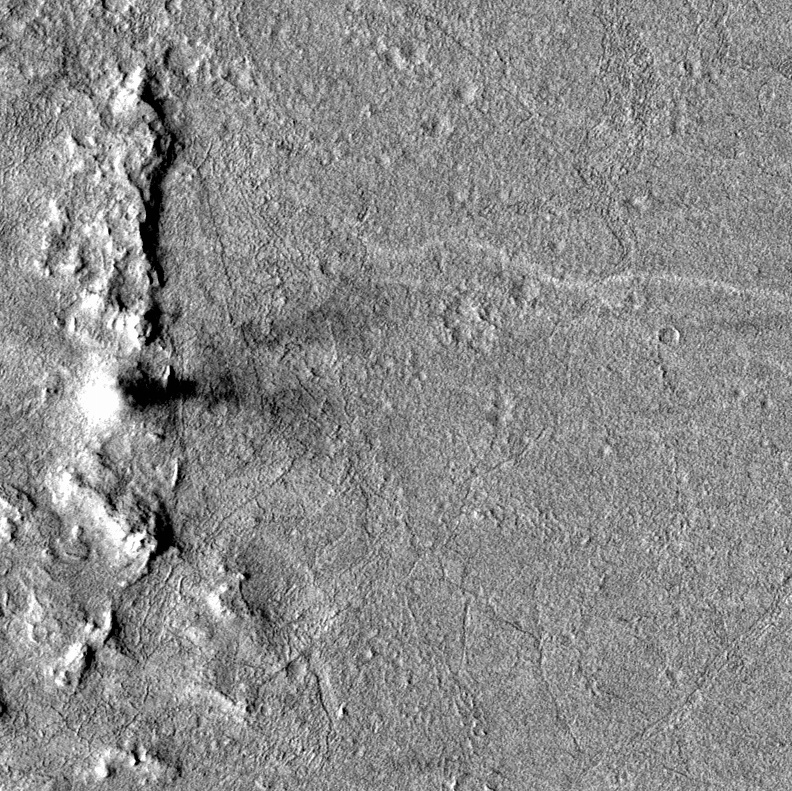dust_devil: (72, 367, 243, 430)
